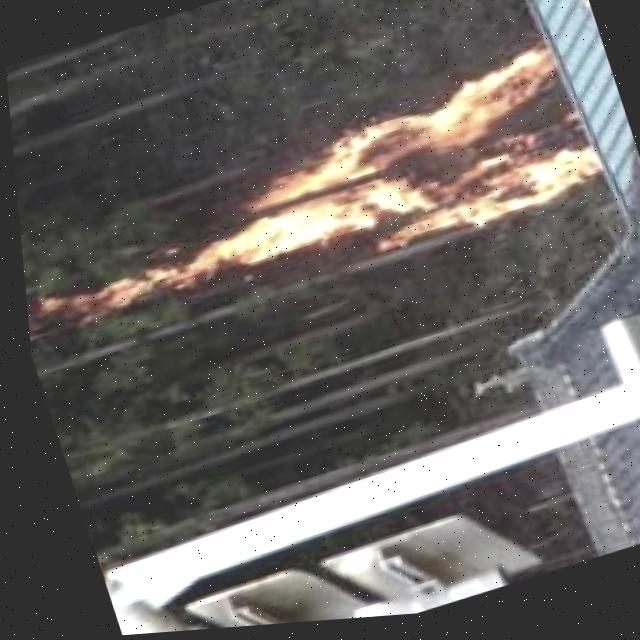Fire: (19, 43, 619, 362)
